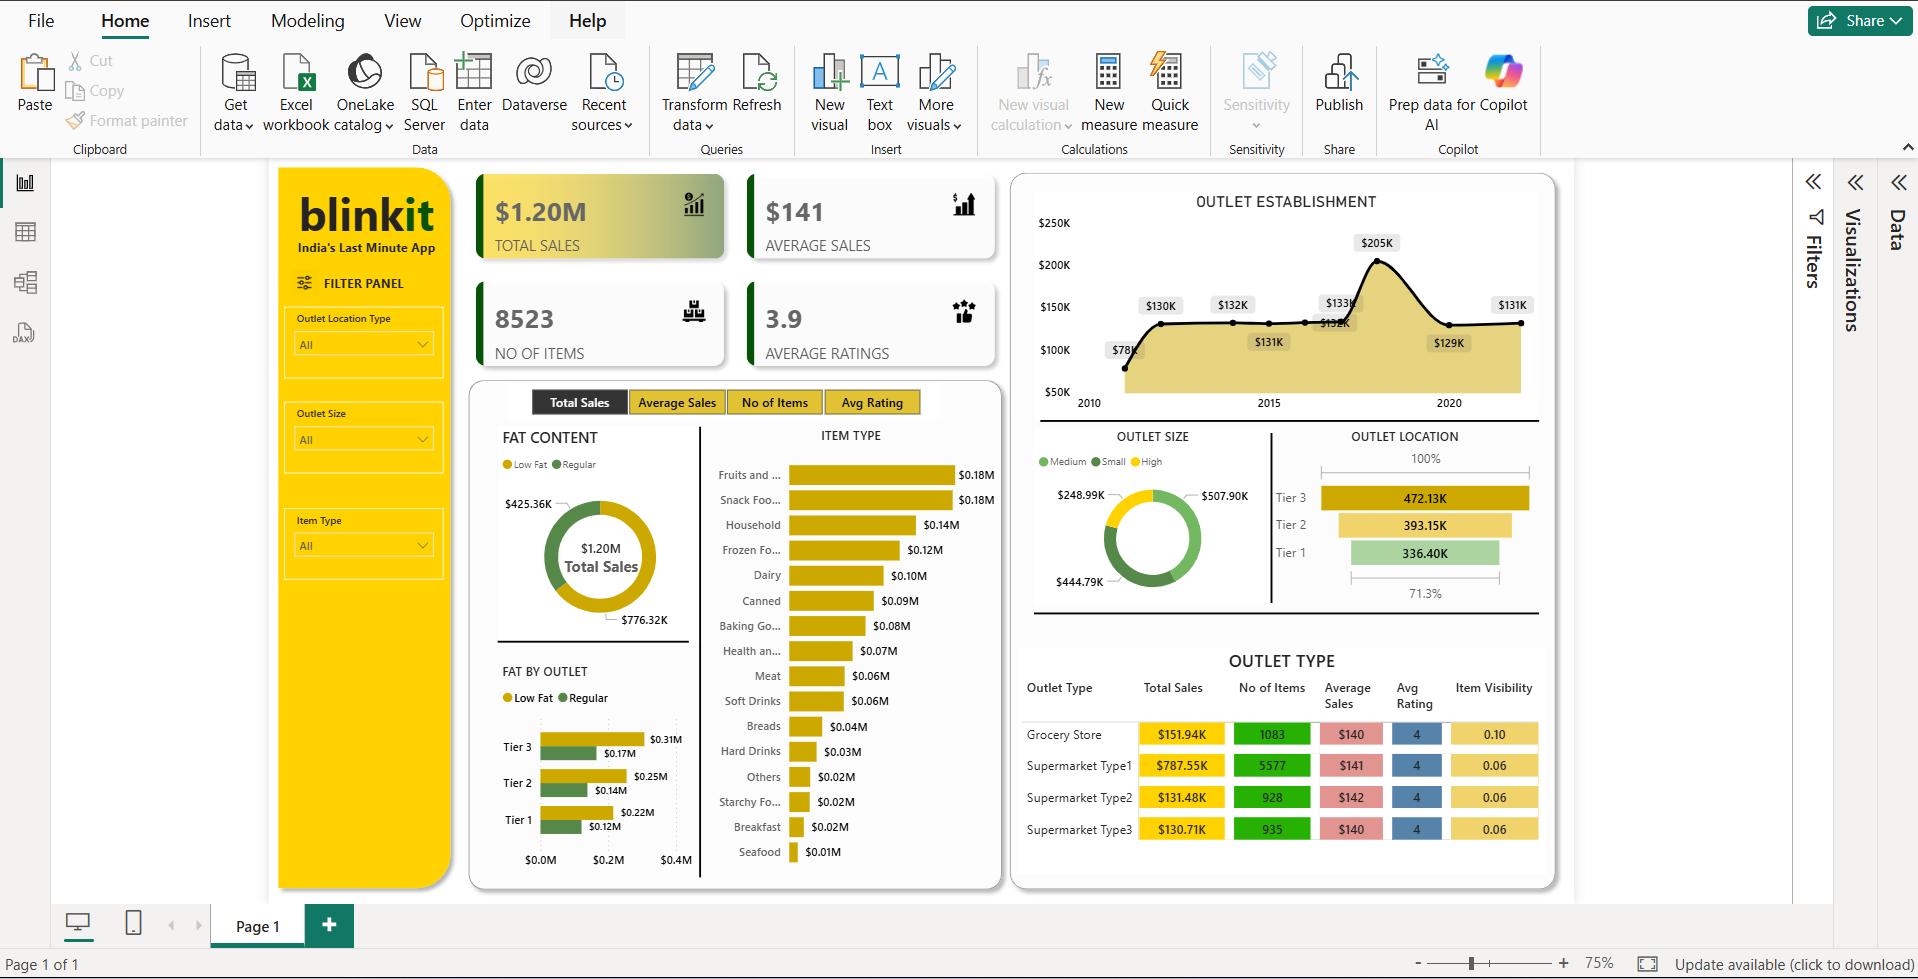

Layout of this report page (visuals, bound fields, positions):
{"tool":"powerbi","page":{"name":"Page 1","canvas":[1400,800],"ordinal":0},"visuals":[{"type":"shape","box":[0,0,205,793.3],"z":0},{"type":"textbox","box":[18.3,21.7,171.7,75],"z":1000},{"type":"textbox","box":[18.3,81.7,171.7,30],"z":2000},{"type":"cardVisual","fields":{"Data":["BlinkIT Grocery Data.Total Sales","BlinkIT Grocery Data.Average Sales","BlinkIT Grocery Data.No of Items","BlinkIT Grocery Data.Avg Rating"]},"box":[205,0,590,241.7],"z":3000},{"type":"shape","box":[205.1,229.2,589.8,564.3],"z":4000},{"type":"donutChart","title":"FAT CONTENT","fields":{"Y":["BlinkIT Grocery Data.Total Sales"],"Category":["BlinkIT Grocery Data.Item Fat Content"]},"box":[245,288.3,220,230],"z":5000},{"type":"slicer","fields":{"Values":["Metrics.Metrics"]},"box":[256.7,241.7,466.7,40],"z":6000},{"type":"cardVisual","fields":{"Data":["BlinkIT Grocery Data.Total Sales"]},"box":[291.7,375,128.3,106.7],"z":7000},{"type":"clusteredBarChart","title":"FAT BY OUTLET","fields":{"Y":["BlinkIT Grocery Data.Total Sales"],"Category":["BlinkIT Grocery Data.Outlet Location Type"],"Series":["BlinkIT Grocery Data.Item Fat Content"]},"box":[245,541.7,220,230],"z":8000},{"type":"shape","box":[245,511.7,205,13.3],"z":9000},{"type":"shape","box":[373.3,288.3,176.7,483.3],"z":10000},{"type":"barChart","title":"ITEM TYPE","fields":{"Y":["BlinkIT Grocery Data.Total Sales"],"Category":["BlinkIT Grocery Data.Item Type"]},"box":[465,288.3,318.3,483.3],"z":11000},{"type":"shape","box":[785,6.7,603.3,786.7],"z":12000},{"type":"lineChart","title":"OUTLET ESTABLISHMENT","fields":{"Y":["BlinkIT Grocery Data.Total Sales"],"Category":["BlinkIT Grocery Data.Outlet Establishment Year"]},"box":[820.4,36.2,541.6,245.3],"z":13000},{"type":"donutChart","title":"OUTLET SIZE","fields":{"Y":["BlinkIT Grocery Data.Total Sales"],"Category":["BlinkIT Grocery Data.Outlet Size"]},"box":[820,290,255,191.7],"z":14000},{"type":"shape","box":[826.7,245,535,73.3],"z":15000},{"type":"funnel","title":"OUTLET LOCATION","fields":{"Y":["Sum(BlinkIT Grocery Data.Sales)"],"Category":["BlinkIT Grocery Data.Outlet Location Type"]},"box":[1075,290,286.7,191.7],"z":16000},{"type":"shape","box":[924.9,294.9,300.3,182.3],"z":17000},{"type":"shape","box":[820,451.7,541.7,73.3],"z":18000},{"type":"pivotTable","title":"OUTLET TYPE","fields":{"Rows":["BlinkIT Grocery Data.Outlet Type"],"Values":["BlinkIT Grocery Data.Total Sales","BlinkIT Grocery Data.No of Items","BlinkIT Grocery Data.Average Sales","BlinkIT Grocery Data.Avg Rating","Avg(BlinkIT Grocery Data.Item Visibility)"]},"box":[803.3,525,566.7,243.3],"z":19000},{"type":"slicer","fields":{"Values":["BlinkIT Grocery Data.Outlet Location Type"]},"box":[16.1,159.5,171.6,76.4],"z":20000},{"type":"slicer","fields":{"Values":["BlinkIT Grocery Data.Outlet Size"]},"box":[16.1,261.4,171.6,76.4],"z":21000},{"type":"slicer","fields":{"Values":["BlinkIT Grocery Data.Item Type"]},"box":[16.1,375.3,171.6,76.4],"z":22000},{"type":"textbox","box":[52.3,120.6,99.2,30.8],"z":22001},{"type":"image","box":[18.8,107.2,38.9,52.3],"z":22002}]}

Visuals, with their boxes on the page's 1400x800 design canvas (x1, y1, x2, y2). These are canvas units, not pixel positions in the 1918x979 screenshot, which may show the page scaled, cropped or inside an application window:
shape: pyautogui.locateOnScreen(0, 0, 205, 793)
textbox: pyautogui.locateOnScreen(18, 22, 190, 97)
textbox: pyautogui.locateOnScreen(18, 82, 190, 112)
cardVisual - BlinkIT Grocery Data.Total Sales x BlinkIT Grocery Data.Average Sales: pyautogui.locateOnScreen(205, 0, 795, 242)
shape: pyautogui.locateOnScreen(205, 229, 795, 794)
"FAT CONTENT" donutChart: pyautogui.locateOnScreen(245, 288, 465, 518)
slicer - Metrics.Metrics: pyautogui.locateOnScreen(257, 242, 723, 282)
cardVisual - BlinkIT Grocery Data.Total Sales: pyautogui.locateOnScreen(292, 375, 420, 482)
"FAT BY OUTLET" clusteredBarChart: pyautogui.locateOnScreen(245, 542, 465, 772)
shape: pyautogui.locateOnScreen(245, 512, 450, 525)
shape: pyautogui.locateOnScreen(373, 288, 550, 772)
"ITEM TYPE" barChart: pyautogui.locateOnScreen(465, 288, 783, 772)
shape: pyautogui.locateOnScreen(785, 7, 1388, 793)
"OUTLET ESTABLISHMENT" lineChart: pyautogui.locateOnScreen(820, 36, 1362, 282)
"OUTLET SIZE" donutChart: pyautogui.locateOnScreen(820, 290, 1075, 482)
shape: pyautogui.locateOnScreen(827, 245, 1362, 318)
"OUTLET LOCATION" funnel: pyautogui.locateOnScreen(1075, 290, 1362, 482)
shape: pyautogui.locateOnScreen(925, 295, 1225, 477)
shape: pyautogui.locateOnScreen(820, 452, 1362, 525)
"OUTLET TYPE" pivotTable: pyautogui.locateOnScreen(803, 525, 1370, 768)
slicer - BlinkIT Grocery Data.Outlet Location Type: pyautogui.locateOnScreen(16, 160, 188, 236)
slicer - BlinkIT Grocery Data.Outlet Size: pyautogui.locateOnScreen(16, 261, 188, 338)
slicer - BlinkIT Grocery Data.Item Type: pyautogui.locateOnScreen(16, 375, 188, 452)
textbox: pyautogui.locateOnScreen(52, 121, 152, 151)
image: pyautogui.locateOnScreen(19, 107, 58, 160)
